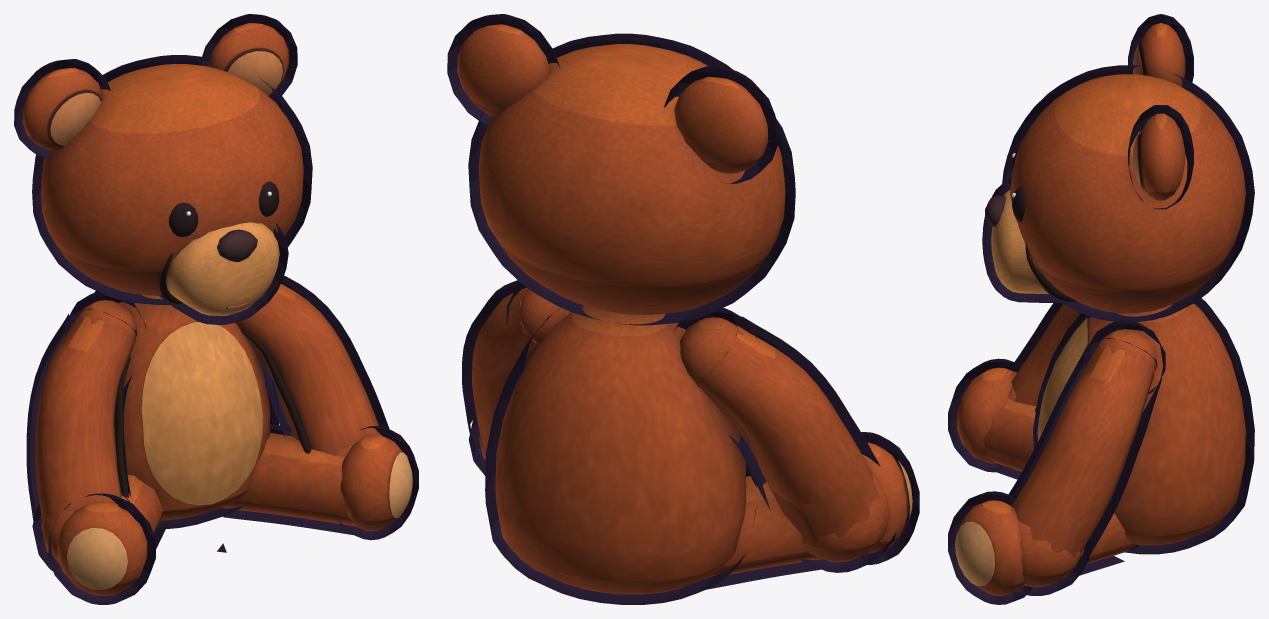
The model's file is Teddy.glb.
The picture shows the model from 3 angles, left to right: view 1: azimuth 30°, elevation 25°; view 2: azimuth 150°, elevation 25°; view 3: azimuth 270°, elevation 25°; orthographic projection. The views are drawn at different scales.
Parts seen in each view (by area): view 1: Teddy, Teddy_Outline; view 2: Teddy, Teddy_Outline; view 3: Teddy, Teddy_Outline.
Boxes of the visible parts, bbox=[...] form: Teddy: bbox=[22, 23, 412, 595]; Teddy_Outline: bbox=[14, 14, 418, 604]; Teddy: bbox=[457, 24, 912, 594]; Teddy_Outline: bbox=[447, 14, 919, 604]; Teddy: bbox=[955, 23, 1245, 595]; Teddy_Outline: bbox=[948, 14, 1254, 604].
Size of the model in its own units: 4.39 by 5.5 by 3.25.
2 materials, 2 textured.
